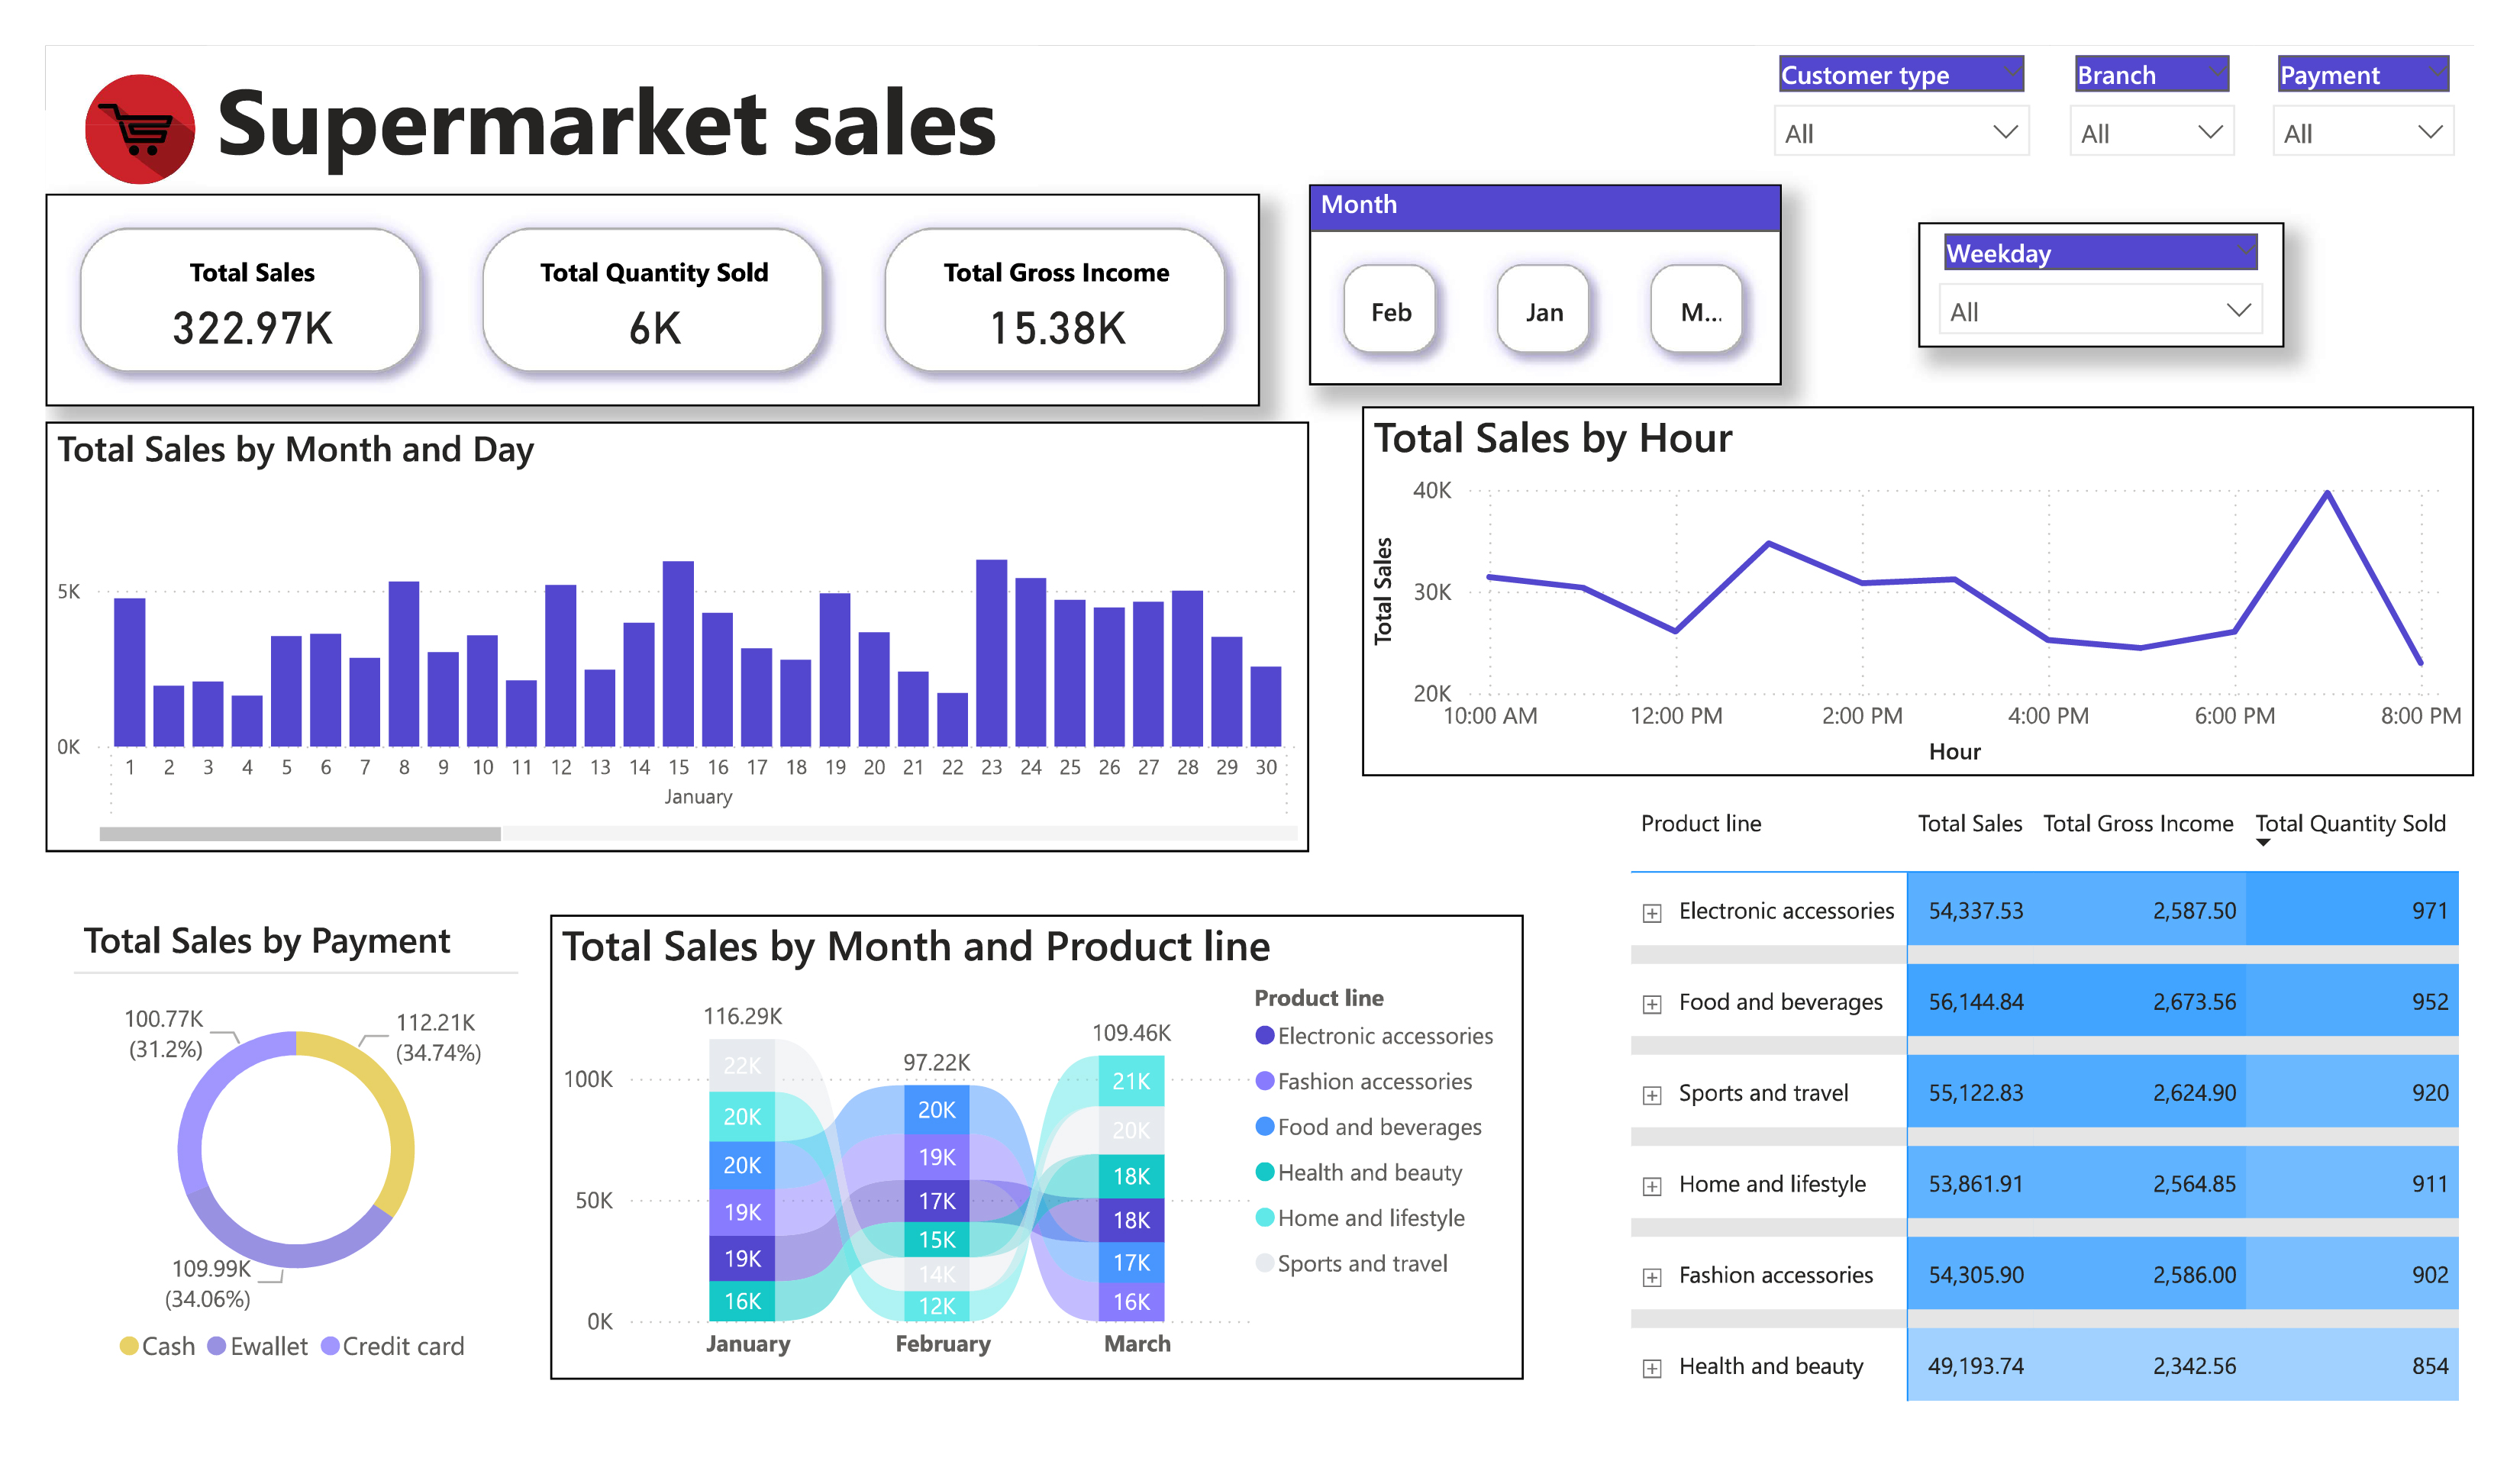

The page's visual inventory and layout, read from the dashboard file:
{"tool":"powerbi","page":{"name":"Page 1","canvas":[1280,720],"ordinal":0},"visuals":[{"type":"cardVisual","fields":{"Data":["Measure.Total Sales","Measure.Total Quantity Sold","Measure.Total Gross Income"]},"box":[0,77.5,640,112],"z":0},{"type":"slicer","fields":{"Values":["supermarket_sales - Sheet1.Customer type"]},"box":[900.9,0,155.1,66.5],"z":1000},{"type":"slicer","fields":{"Values":["supermarket_sales - Sheet1.Branch"]},"box":[1057.2,0,107.1,65.2],"z":2000},{"type":"slicer","fields":{"Values":["supermarket_sales - Sheet1.Payment"]},"box":[1164.3,0,115.7,66.5],"z":3000},{"type":"advancedSlicerVisual","fields":{"Values":["calendar.Month"]},"box":[666,73,249,106],"z":4000},{"type":"pivotTable","title":"Matrix","fields":{"Values":["Measure.Total Sales","Measure.Total Gross Income","Measure.Total Quantity Sold"],"Rows":["supermarket_sales - Sheet1.Product line","supermarket_sales - Sheet1.Branch"]},"box":[830.8,385.2,449.2,334.8],"z":5000},{"type":"donutChart","fields":{"Y":["Measure.Total Sales"],"Category":["supermarket_sales - Sheet1.Payment"]},"box":[14.8,457.8,233.8,244.9],"z":6000},{"type":"clusteredColumnChart","fields":{"Category":["calendar.Date.Variation.Date Hierarchy.Month","calendar.Date.Variation.Date Hierarchy.Day"],"Y":["Measure.Total Sales"]},"box":[0,198.2,665.8,226.5],"z":7000},{"type":"ribbonChart","fields":{"Category":["calendar.Date.Variation.Date Hierarchy.Month"],"Y":["Measure.Total Sales"],"Series":["supermarket_sales - Sheet1.Product line"]},"box":[265.8,457.8,513.2,244.9],"z":8000},{"type":"lineChart","fields":{"Y":["Measure.Total Sales"],"Category":["supermarket_sales - Sheet1.Start of Hour"]},"box":[694.2,189.5,585.8,195.7],"z":9000},{"type":"slicer","fields":{"Values":["calendar.Weekday Name"]},"box":[987,93,193,66],"z":10000},{"type":"image","box":[14.8,9.8,70.2,67.7],"z":11000},{"type":"textbox","box":[84.9,0,438.2,73.8],"z":12000}]}

Visuals, with their boxes in screenshot pixels (x1, y1, x2, y2), scaled from the page's 1280x720 canvas onto the 2520x1458 screenshot:
cardVisual - Measure.Total Sales x Measure.Total Quantity Sold: detection(0, 157, 1260, 384)
slicer - supermarket_sales - Sheet1.Customer type: detection(1773, 0, 2079, 134)
slicer - supermarket_sales - Sheet1.Branch: detection(2081, 0, 2293, 132)
slicer - supermarket_sales - Sheet1.Payment: detection(2293, 0, 2519, 134)
advancedSlicerVisual - calendar.Month: detection(1312, 148, 1802, 363)
"Matrix" pivotTable: detection(1636, 780, 2519, 1457)
donutChart - Measure.Total Sales x supermarket_sales - Sheet1.Payment: detection(29, 927, 489, 1423)
clusteredColumnChart - calendar.Date.Variation.Date Hierarchy.Month x calendar.Date.Variation.Date Hierarchy.Day: detection(0, 402, 1311, 860)
ribbonChart - calendar.Date.Variation.Date Hierarchy.Month x Measure.Total Sales: detection(523, 927, 1534, 1423)
lineChart - Measure.Total Sales x supermarket_sales - Sheet1.Start of Hour: detection(1366, 384, 2519, 780)
slicer - calendar.Weekday Name: detection(1943, 189, 2323, 322)
image: detection(29, 20, 167, 157)
textbox: detection(167, 0, 1030, 150)
